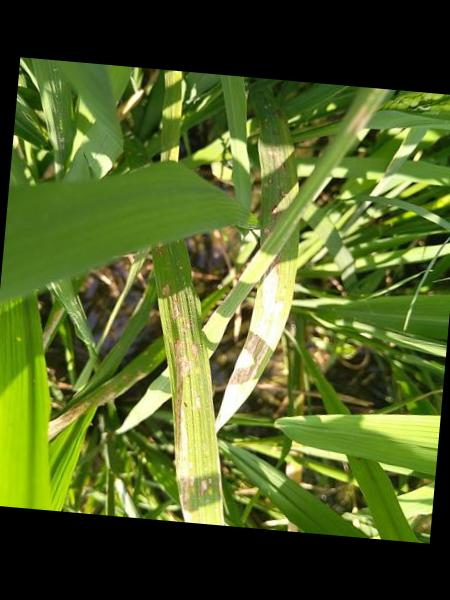Leaf Streak: (202, 86, 392, 343), (156, 237, 222, 519), (214, 241, 298, 432), (47, 341, 160, 440), (260, 86, 299, 228), (39, 302, 65, 348)
